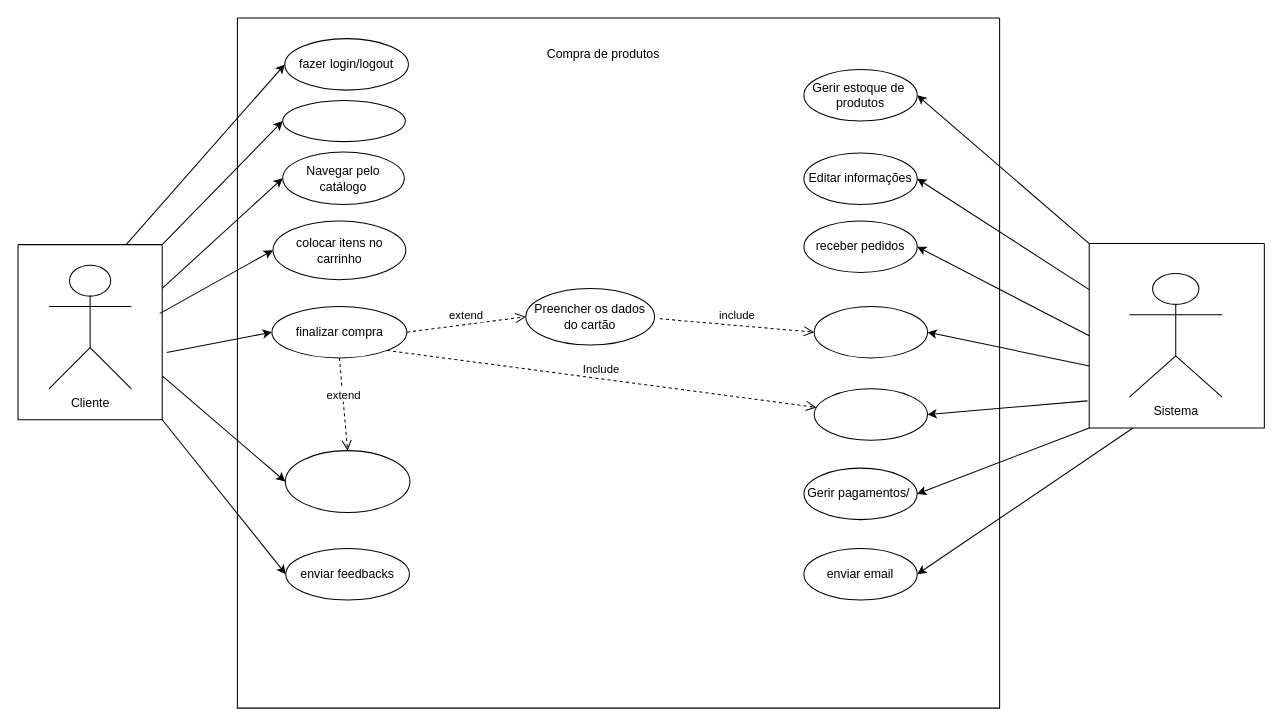
The diagram is 1282 pixels wide and 726 high, and some of its shapes have lost their labels. Each missing label, with the box of its shape:
atualizar dados: (282, 99, 405, 142)
faturar compras: (813, 388, 928, 440)
informar endereço: (284, 450, 410, 512)
Verifica os dados do cartão: (813, 305, 928, 358)
